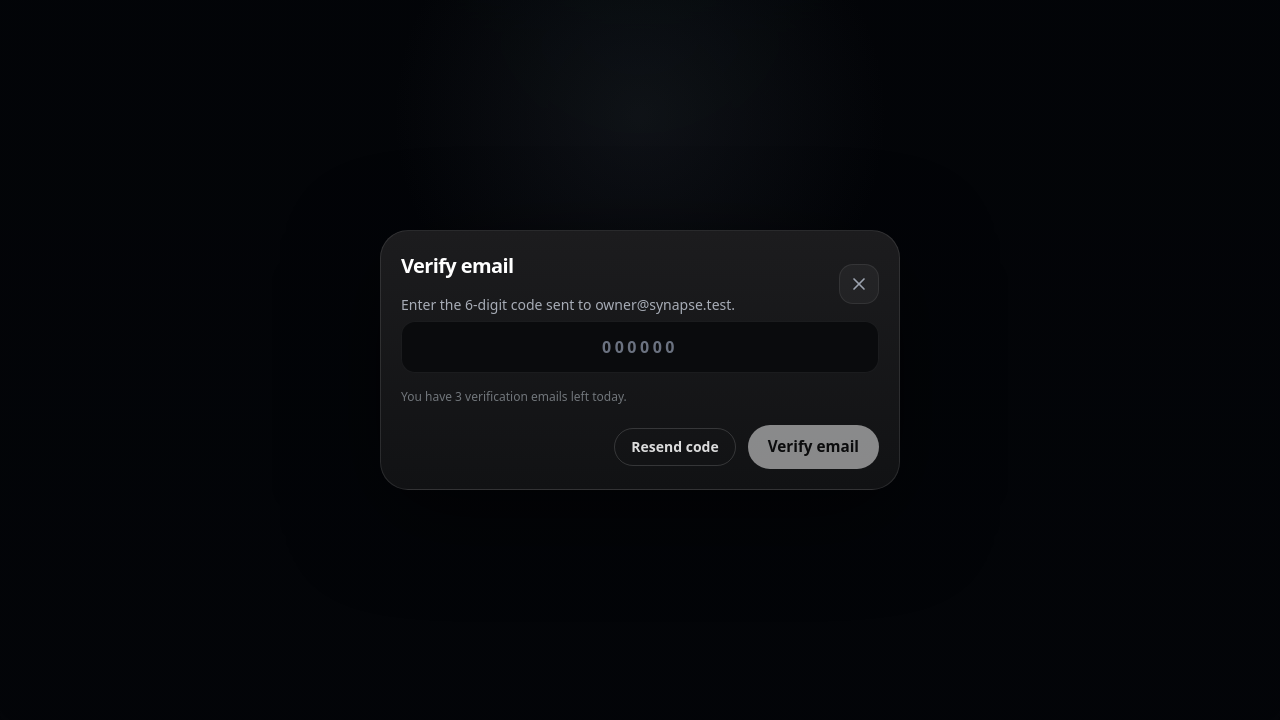
Test: EmailVerificationCodeModal › shows resend success and failure messages
Click the button "Resend code".
click(675, 447)  # box [614, 428, 736, 466]
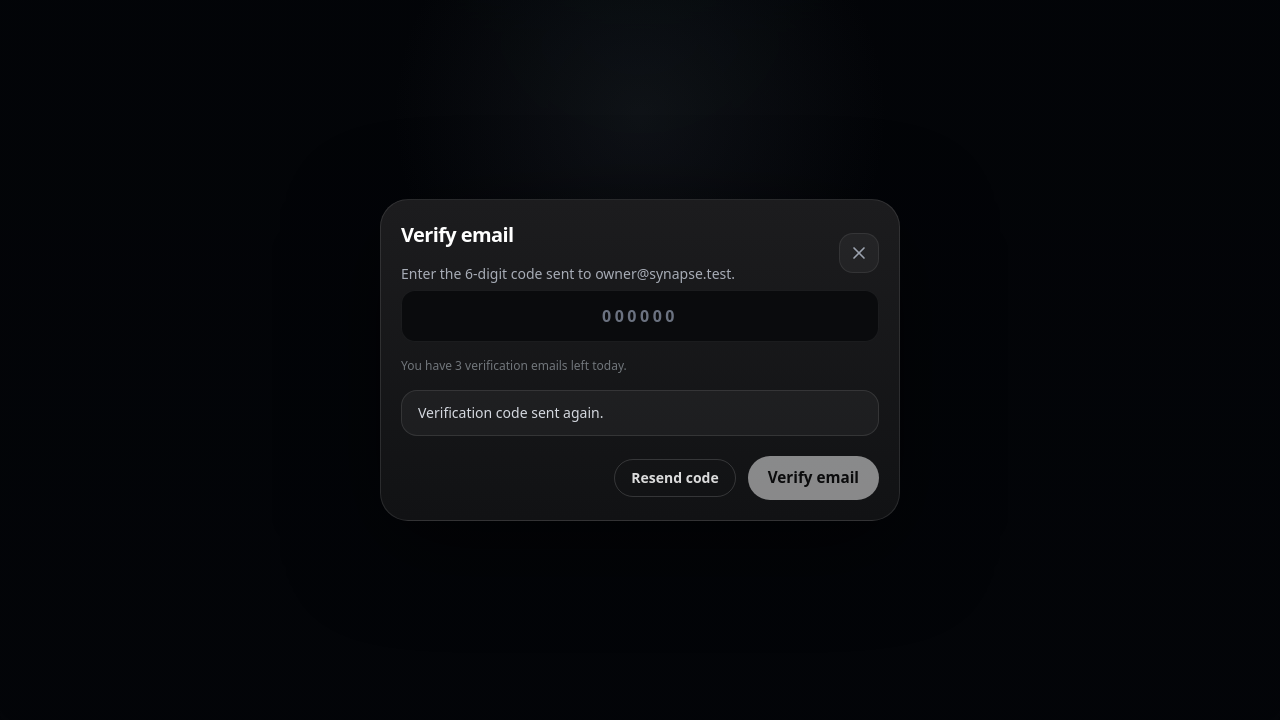
Expected: the text "Verification code sent again." is shown, [401, 390, 879, 436]
Click the button "Resend code".
click(675, 478)  # box [614, 459, 736, 497]
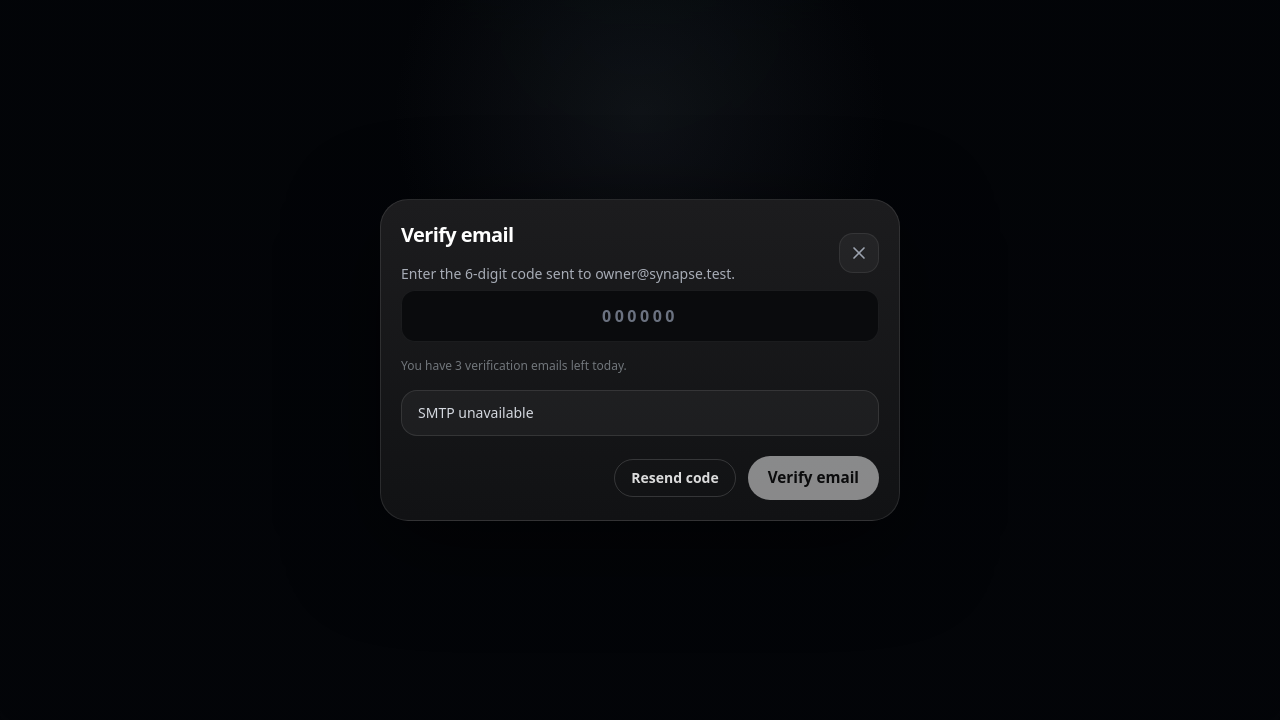
Expected: the text "SMTP unavailable" is shown, [401, 390, 879, 436]
